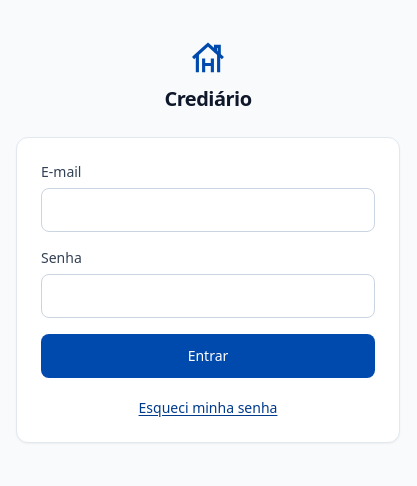
Scenario: LoginPage › recuperar senha sem e-mail pede o e-mail antes
Click the button "Esqueci minha senha" at x=208, y=408, box [130, 394, 285, 422]
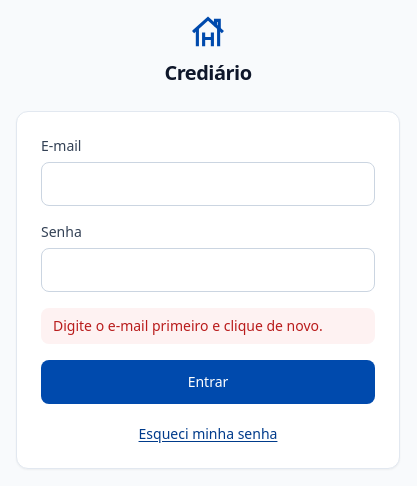
Now the message reads "Digite o e-mail primeiro e clique de novo.", box [53, 316, 323, 335]
